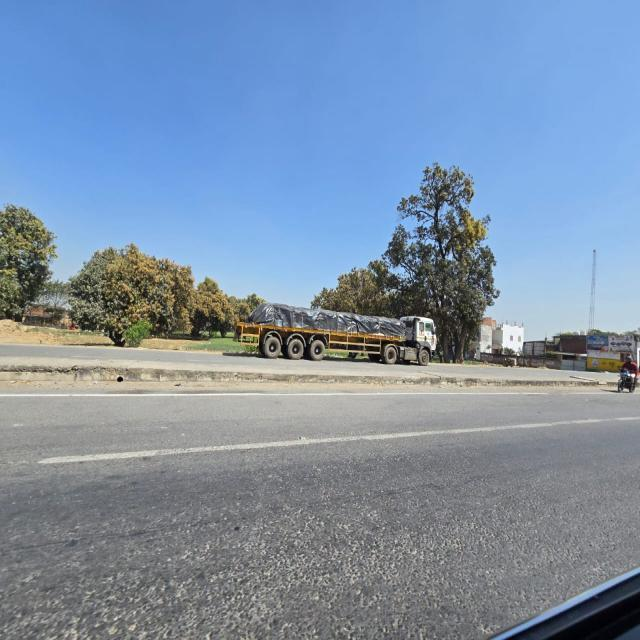covered: (241, 306, 437, 372)
